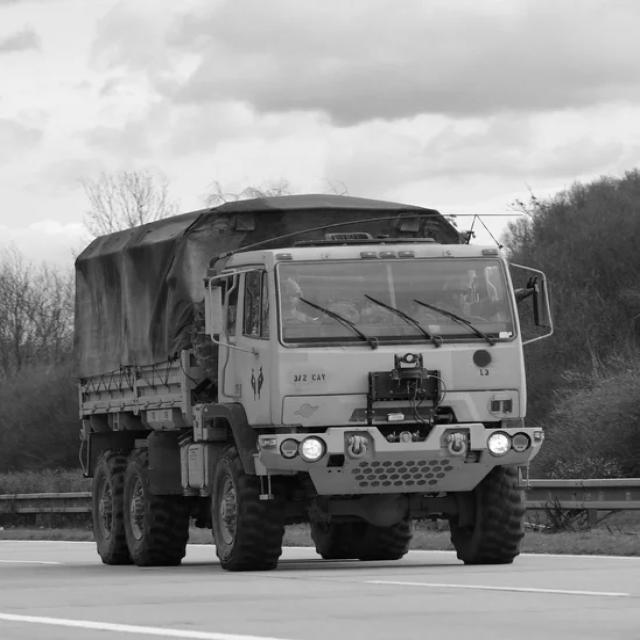Truck: (72, 194, 555, 571)
